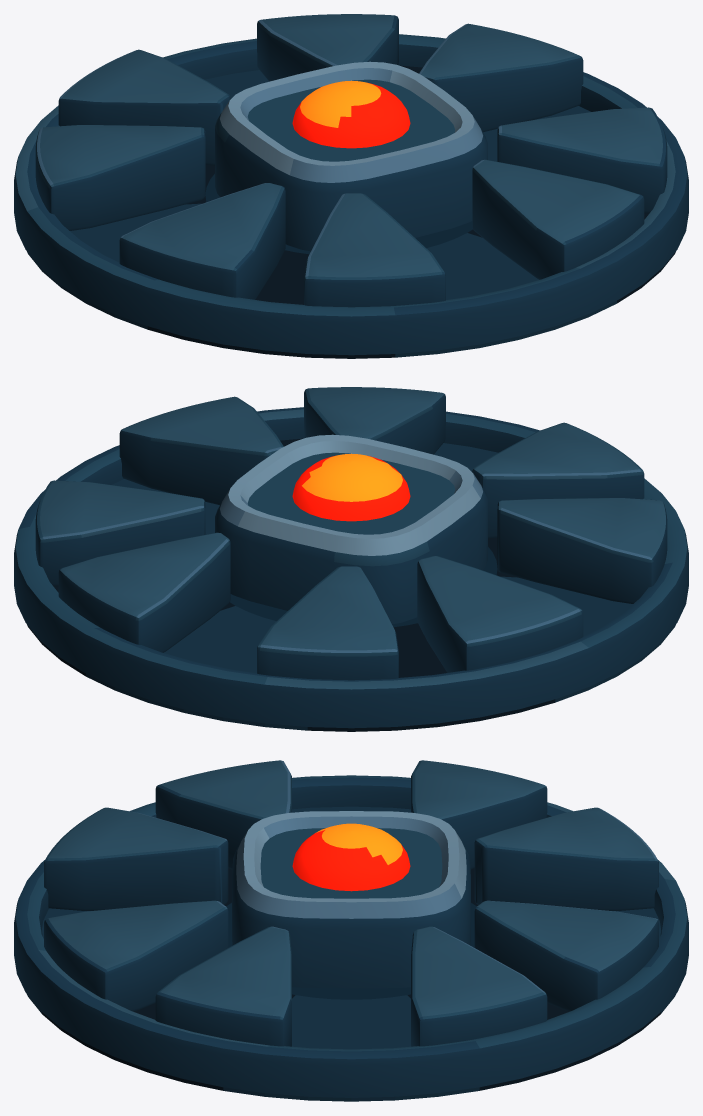
Rendered from fruit_hex_pod_197.glb.
3 views of the same model, one above another, from view 1: azimuth 30°, elevation 25°; view 2: azimuth 150°, elevation 25°; view 3: azimuth 270°, elevation 25° (orthographic).
Visible parts, largest first — view 1: fruit_hex_pod_197; view 2: fruit_hex_pod_197; view 3: fruit_hex_pod_197.
Boxes of the visible parts, box(x1,y1,x2,y2) form: fruit_hex_pod_197: box(14, 14, 688, 358); fruit_hex_pod_197: box(14, 387, 688, 731); fruit_hex_pod_197: box(14, 760, 688, 1101).
Bounding box in the file's own units: 12.7 × 2.68 × 12.7.
